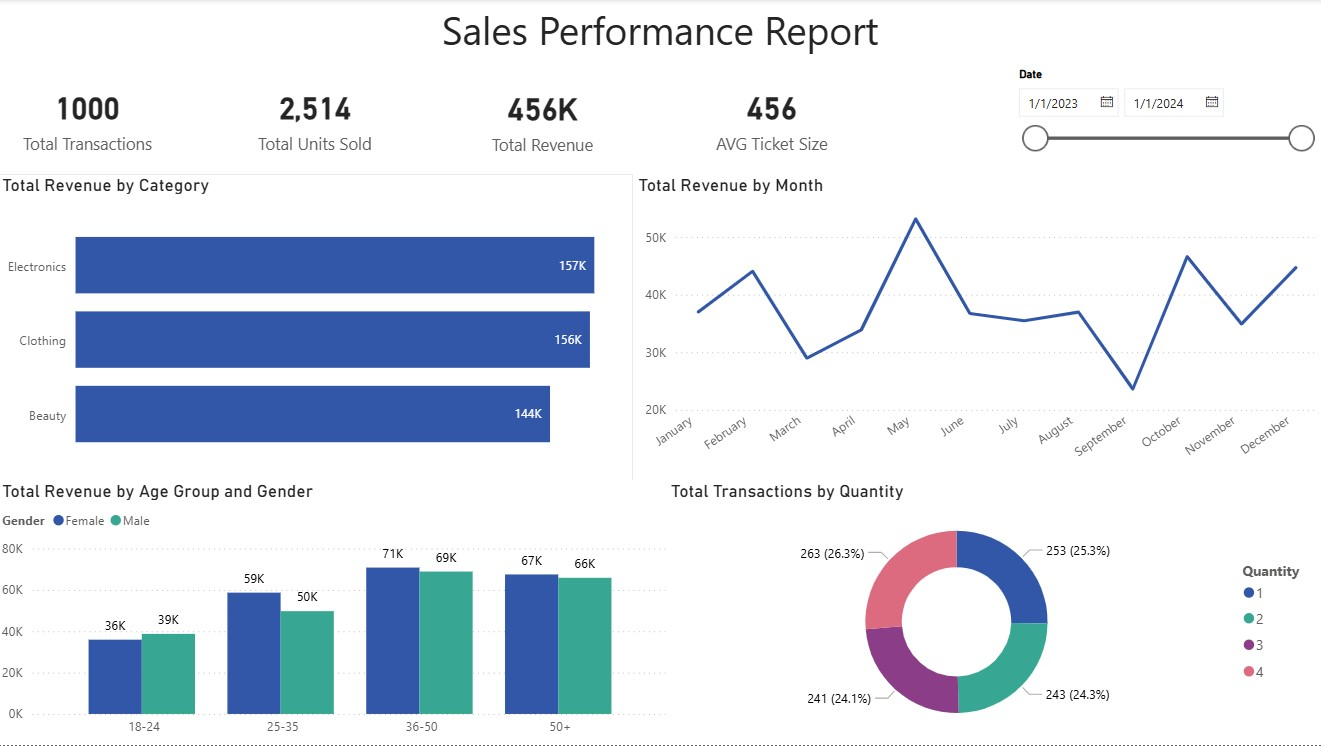

The dashboard page shown, as its layout file describes it:
{"tool":"powerbi","page":{"name":"Sales Report","canvas":[1280,720],"ordinal":0},"visuals":[{"type":"textbox","box":[0,0,1280,61.5],"z":0},{"type":"card","fields":{"Values":["retail_sales_dataset.Total Revenue"]},"box":[439.1,62.7,174.9,106.2],"z":1000},{"type":"card","fields":{"Values":["Sum(retail_sales_dataset.Quantity)"]},"box":[219.6,61.5,174.9,107.4],"z":2000},{"type":"card","fields":{"Values":["retail_sales_dataset.Total Transactions"]},"box":[0,61.5,174.9,107.4],"z":3000},{"type":"card","fields":{"Values":["retail_sales_dataset.AVG Ticket Size"]},"box":[656.3,61.5,183.4,107.4],"z":4000},{"type":"clusteredBarChart","title":"Total Revenue by Category","fields":{"Y":["retail_sales_dataset.Total Revenue"],"Category":["retail_sales_dataset.Product Category"]},"box":[0,169.4,614.6,295.9],"z":5000},{"type":"lineChart","fields":{"Category":["retail_sales_dataset.Date.Variation.Date Hierarchy.Year","retail_sales_dataset.Date.Variation.Date Hierarchy.Quarter","retail_sales_dataset.Date.Variation.Date Hierarchy.Month","retail_sales_dataset.Date.Variation.Date Hierarchy.Day"],"Y":["retail_sales_dataset.Total Revenue"]},"box":[614.6,169.4,665.7,295.9],"z":6000},{"type":"clusteredColumnChart","fields":{"Category":["retail_sales_dataset.Age Group"],"Y":["retail_sales_dataset.Total Revenue"],"Series":["retail_sales_dataset.Gender"]},"box":[0,464.5,656.3,255.8],"z":7000},{"type":"slicer","fields":{"Values":["retail_sales_dataset.Date"]},"box":[973.7,61.9,306.6,108.9],"z":8000},{"type":"donutChart","title":"Total Transactions by Quantity","fields":{"Category":["retail_sales_dataset.Quantity"],"Y":["CountNonNull(retail_sales_dataset.Transaction ID)"]},"box":[645.4,464.5,634.6,254.6],"z":9000}]}

Visuals, with their boxes in screenshot pixels (x1, y1, x2, y2), scaled from the page's 1280x720 canvas onto the 1321x746 screenshot:
textbox: box=[0, 0, 1320, 64]
card - retail_sales_dataset.Total Revenue: box=[453, 65, 634, 175]
card - Sum(retail_sales_dataset.Quantity): box=[227, 64, 407, 175]
card - retail_sales_dataset.Total Transactions: box=[0, 64, 181, 175]
card - retail_sales_dataset.AVG Ticket Size: box=[677, 64, 867, 175]
"Total Revenue by Category" clusteredBarChart: box=[0, 176, 634, 482]
lineChart - retail_sales_dataset.Date.Variation.Date Hierarchy.Year x retail_sales_dataset.Date.Variation.Date Hierarchy.Quarter: box=[634, 176, 1320, 482]
clusteredColumnChart - retail_sales_dataset.Age Group x retail_sales_dataset.Total Revenue: box=[0, 481, 677, 745]
slicer - retail_sales_dataset.Date: box=[1005, 64, 1320, 177]
"Total Transactions by Quantity" donutChart: box=[666, 481, 1320, 745]
